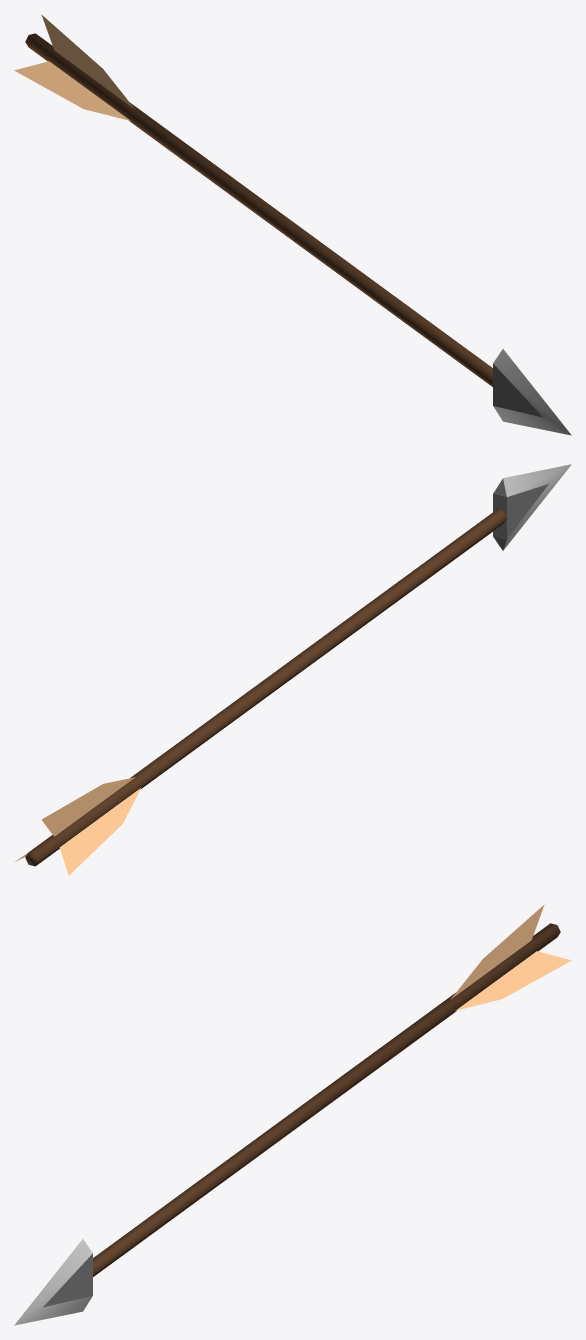
File: Arrow_performance_LOD1.fbx
3 views of the same model, one above another, from view 1: azimuth 30°, elevation 25°; view 2: azimuth 150°, elevation 25°; view 3: azimuth 330°, elevation 25° (orthographic).
Parts seen in each view (by area): view 1: Arrow_LOD1; view 2: Arrow_LOD1; view 3: Arrow_LOD1.
Part boxes in pixels (x1,y1,x2,y2): Arrow_LOD1: (14,14,571,435); Arrow_LOD1: (15,464,571,875); Arrow_LOD1: (14,904,571,1325).
Size of the model in its own units: 5.99 by 102 by 7.62.
